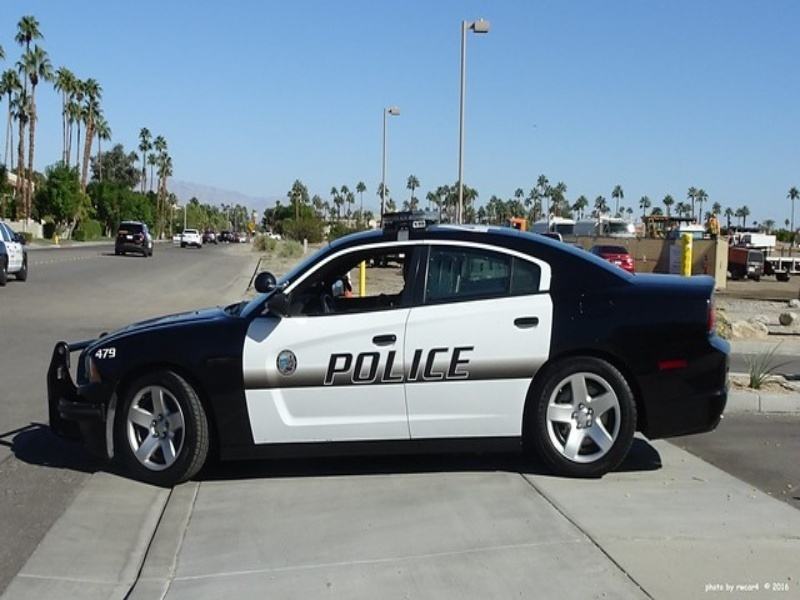policecar: (43, 187, 730, 503)
